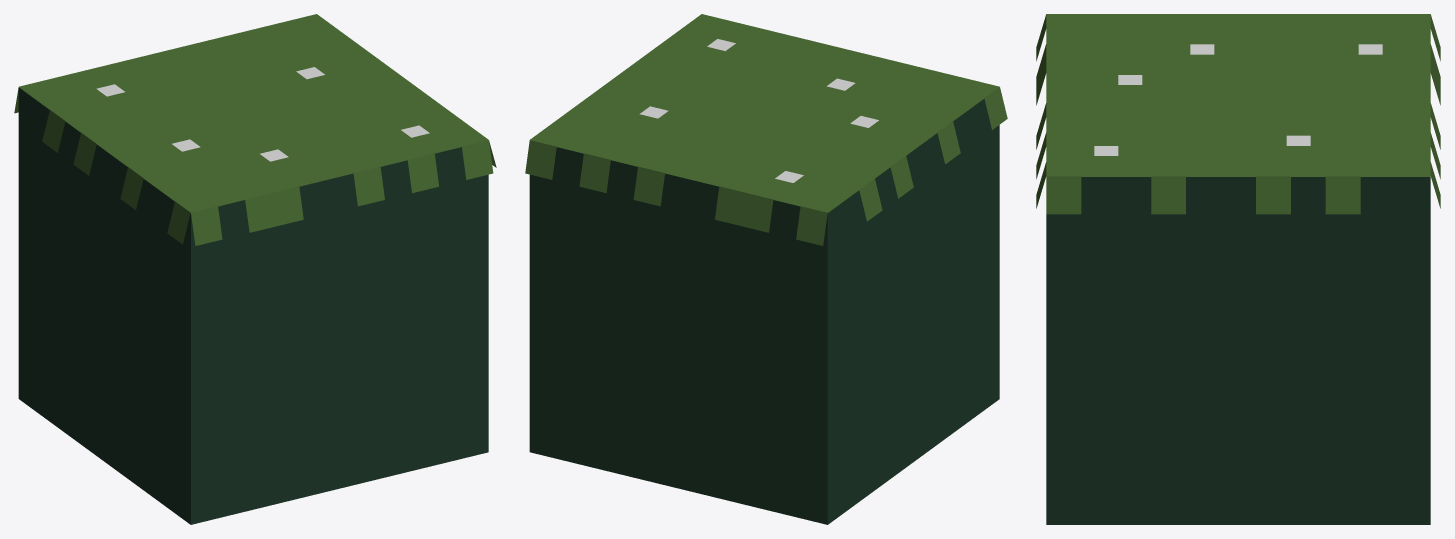
File: groundTiles01.fbx
3 renders of one model, left to right at view 1: azimuth 30°, elevation 25°; view 2: azimuth 150°, elevation 25°; view 3: azimuth 270°, elevation 25°, orthographic. The views are drawn at different scales.
Visible parts, largest first — view 1: Mesh_GroundGrass, Mesh_Flowers01; view 2: Mesh_GroundGrass, Mesh_Flowers01; view 3: Mesh_GroundGrass, Mesh_Flowers01.
Part boxes in pixels (x1,y1,x2,y2): Mesh_GroundGrass: [14, 14, 496, 524]; Mesh_Flowers01: [96, 67, 429, 161]; Mesh_GroundGrass: [525, 14, 1007, 524]; Mesh_Flowers01: [639, 39, 878, 182]; Mesh_GroundGrass: [1036, 14, 1440, 524]; Mesh_Flowers01: [1094, 44, 1382, 155].
Bounding box in the file's own units: 2.11 × 2.11 × 2.
